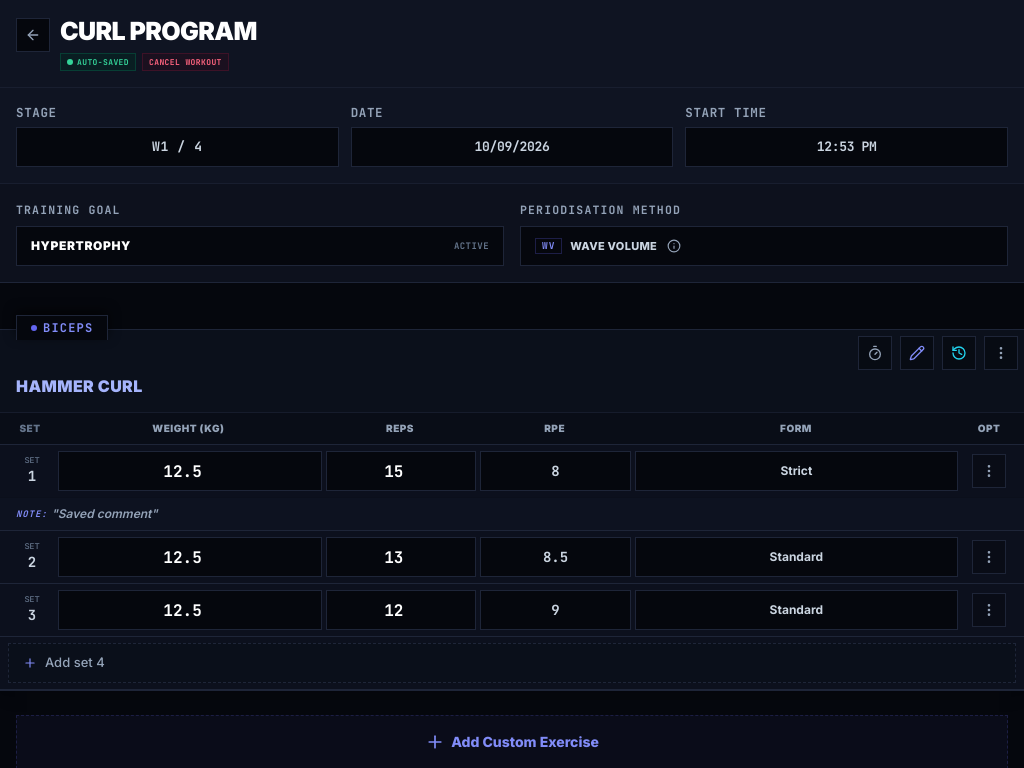
Prog Goal in Workout Logger › shows every working set, reads current edits and preserves all workout state in slate
The width and height of the screenshot is (1024, 768).
Replace the text in the 1st number field with "15" at (190, 471), box left=58, top=451, right=322, bottom=491
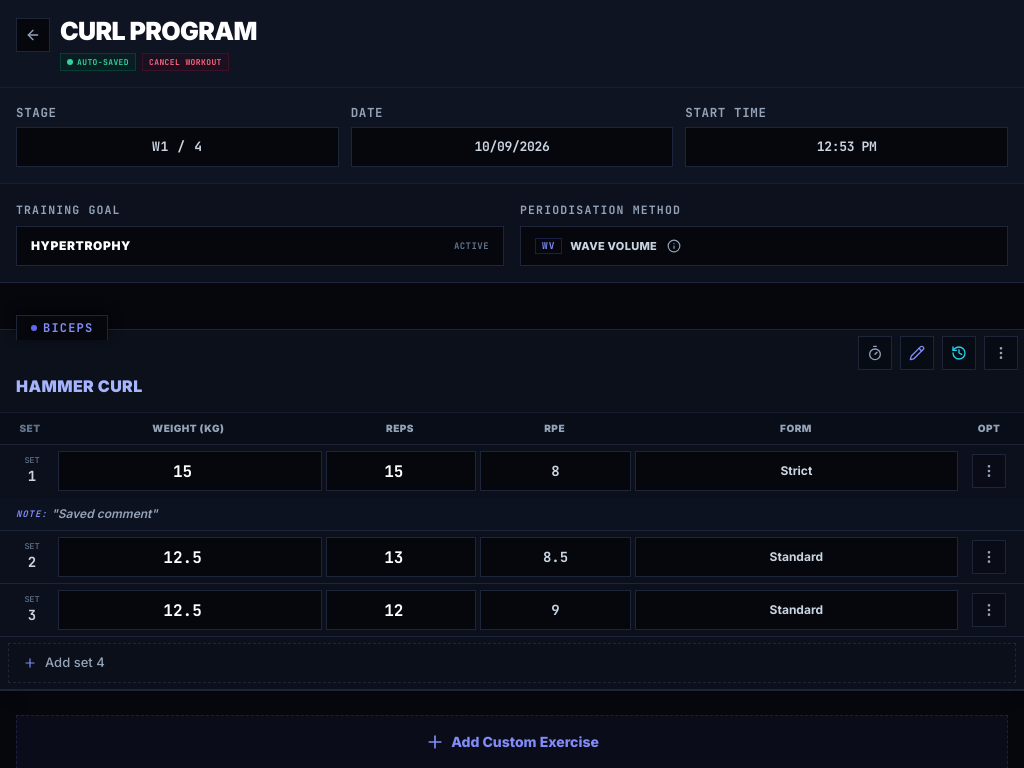
Click the 1st button named "Set options; press and hold to reorder" at (989, 471), box left=972, top=454, right=1006, bottom=488
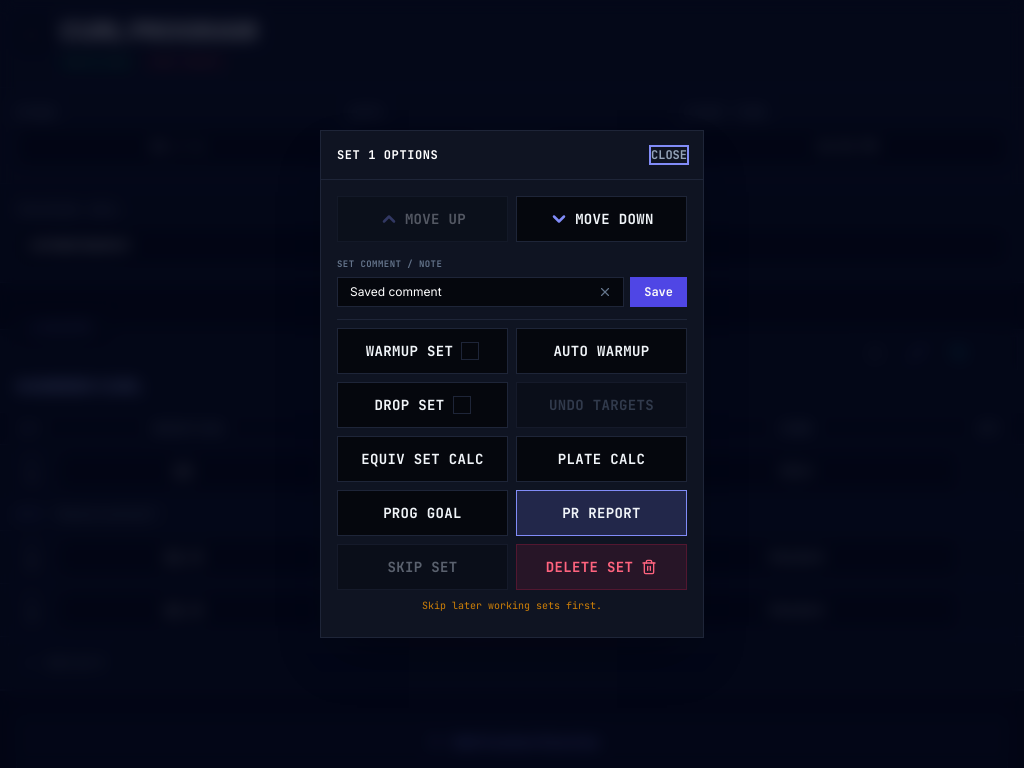
Replace the text in the field with placeholder "e.g., Last rep was slow, good squeeze" with "Unsaved comment" at (481, 292), box left=337, top=277, right=624, bottom=307
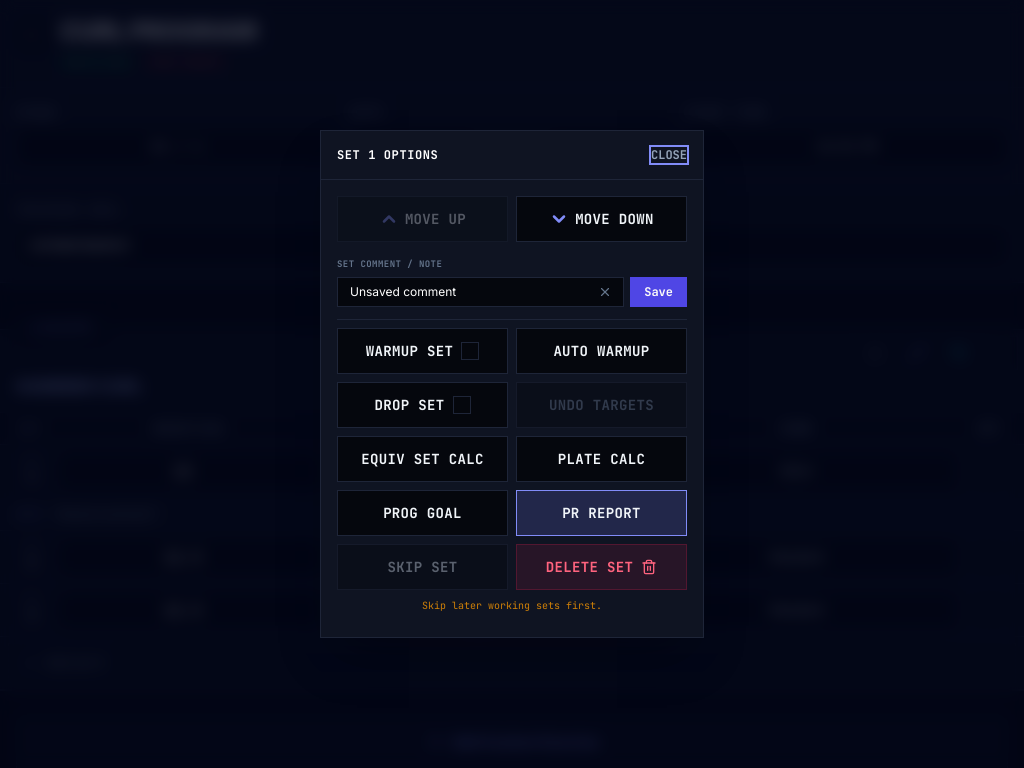
Click the button "Prog Goal" at (422, 513), box left=337, top=490, right=508, bottom=536
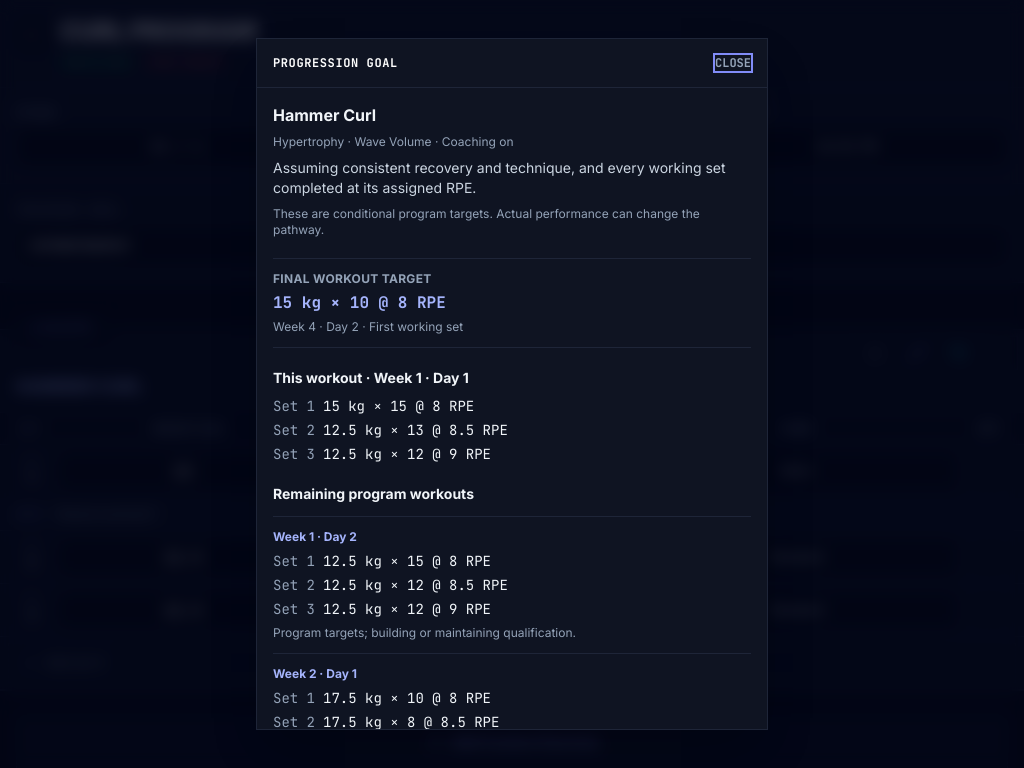
Expected: the number of dialogs is 1, left=256, top=38, right=768, bottom=730
Expected: the heading "Progression goal" is shown, left=273, top=55, right=398, bottom=71
Expected: the text "15 kg × 15 @ 8 RPE" is shown, left=323, top=396, right=474, bottom=416
Press Tab
Press Tab
Click the button with aria-label "Close progression goal" at (733, 63), box left=715, top=55, right=751, bottom=71
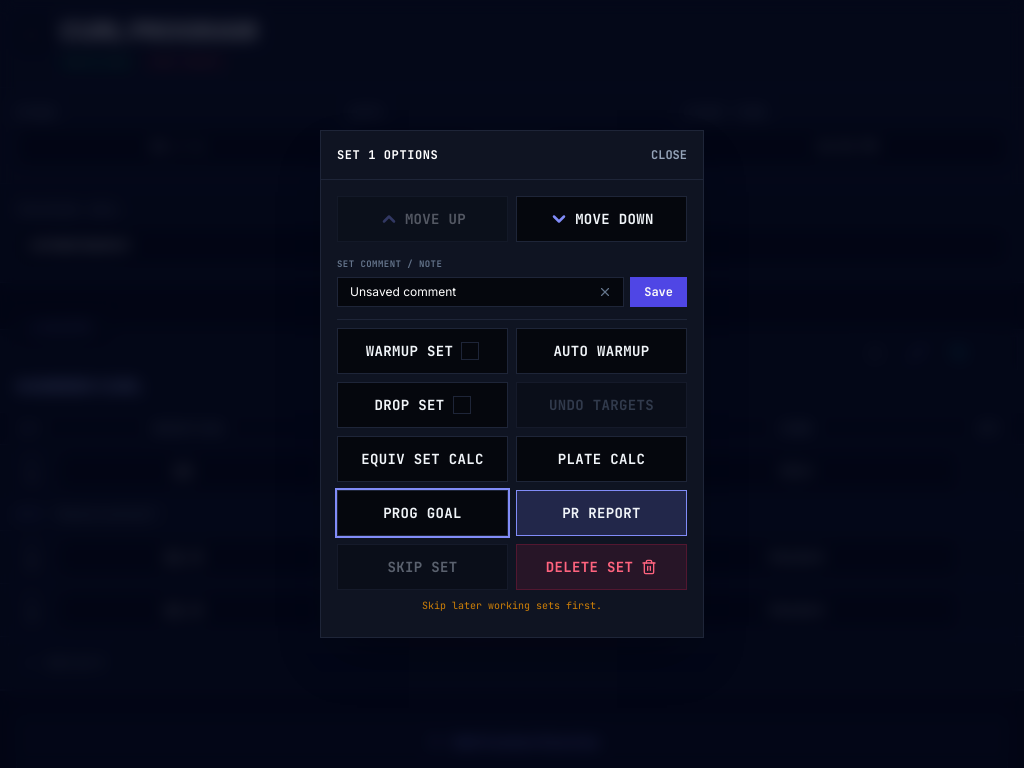
Expected: the field with placeholder "e.g., Last rep was slow, good squeeze" holds "Unsaved comment", left=337, top=277, right=624, bottom=307
